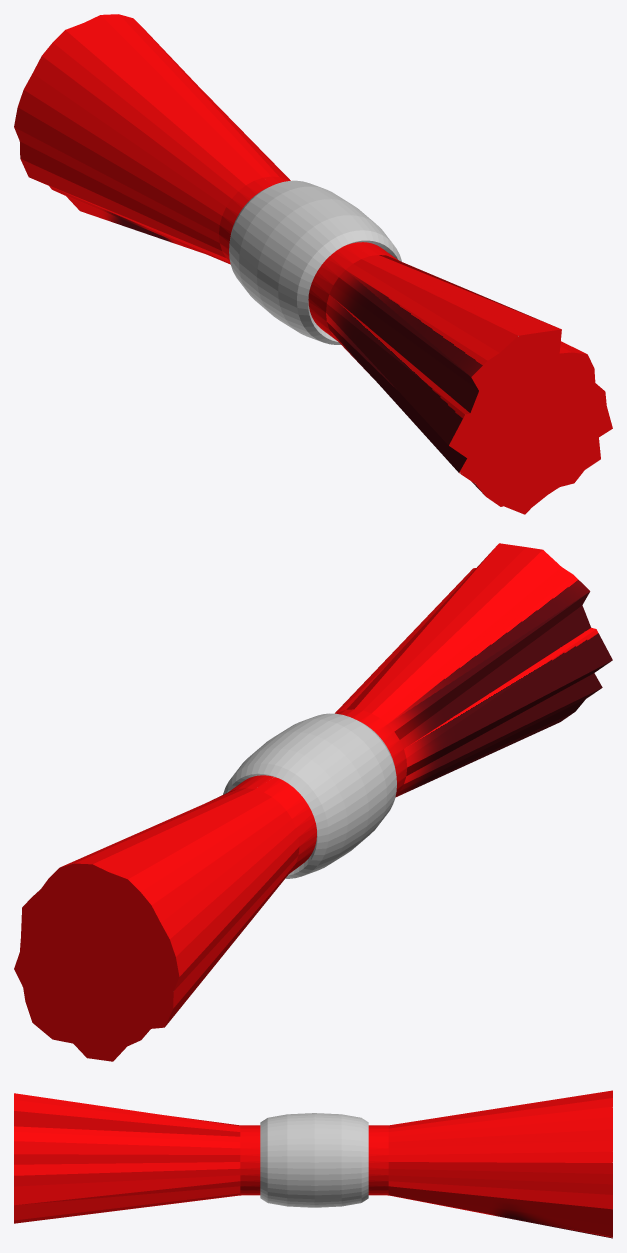
The model's file is nappykin.fbx.
The picture shows the model from 3 angles, top to bottom: view 1: azimuth 30°, elevation 25°; view 2: azimuth 150°, elevation 25°; view 3: azimuth 270°, elevation 25°; orthographic projection. The views are drawn at different scales.
Visible parts, largest first — view 1: Torus; view 2: Torus; view 3: Torus.
Part boxes in pixels (x1,y1,x2,y2): Torus: (14,14,612,514); Torus: (14,543,612,1061); Torus: (14,1090,612,1238).
Size of the model in its own units: 378 by 422 by 1707.
